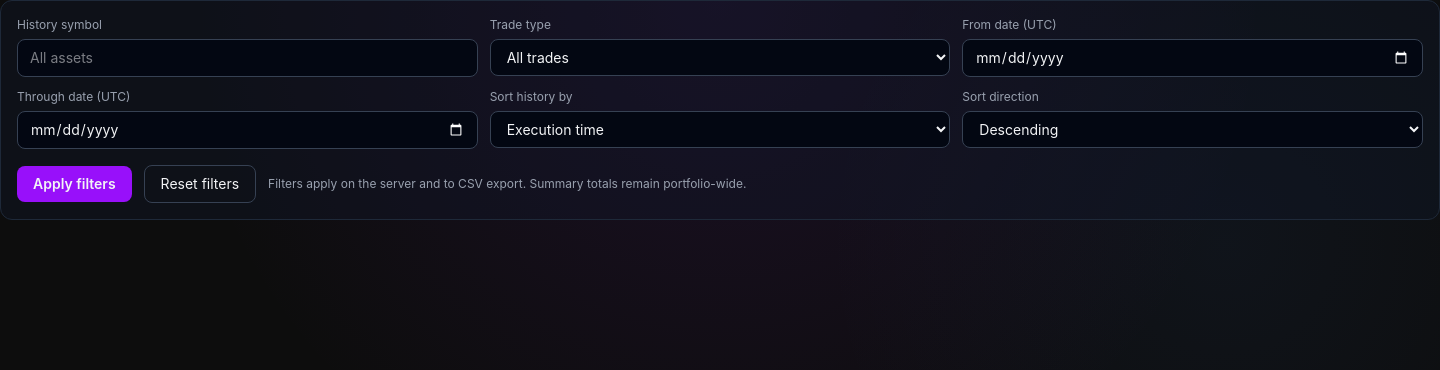
Test case: rejects a reversed date interval without sending a request
Type "2026-02-01" into the date field labelled "From date (UTC)" at (1193, 58), box [962,39,1423,77]
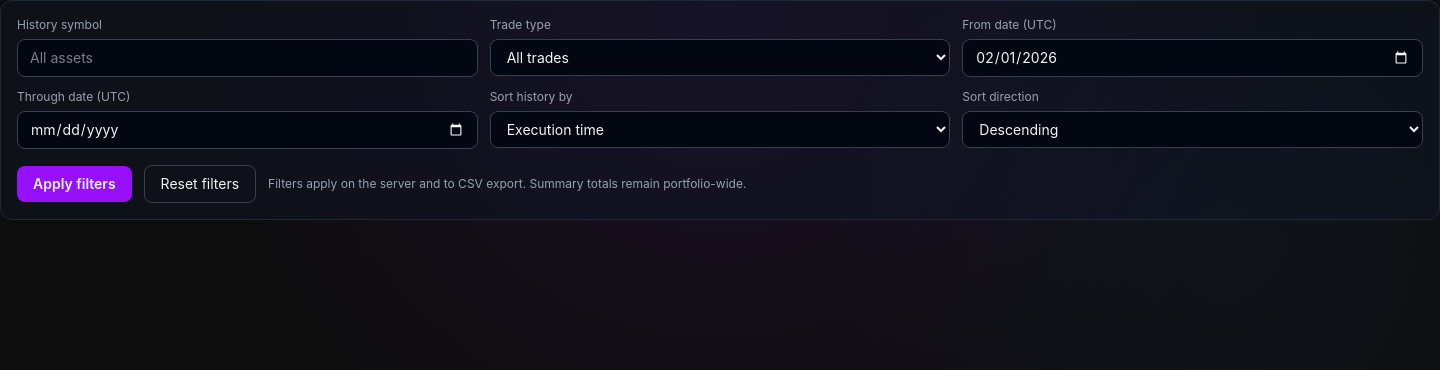
Type "2026-01-01" into the date field labelled "Through date (UTC)" at (247, 130), box [17,111,478,149]
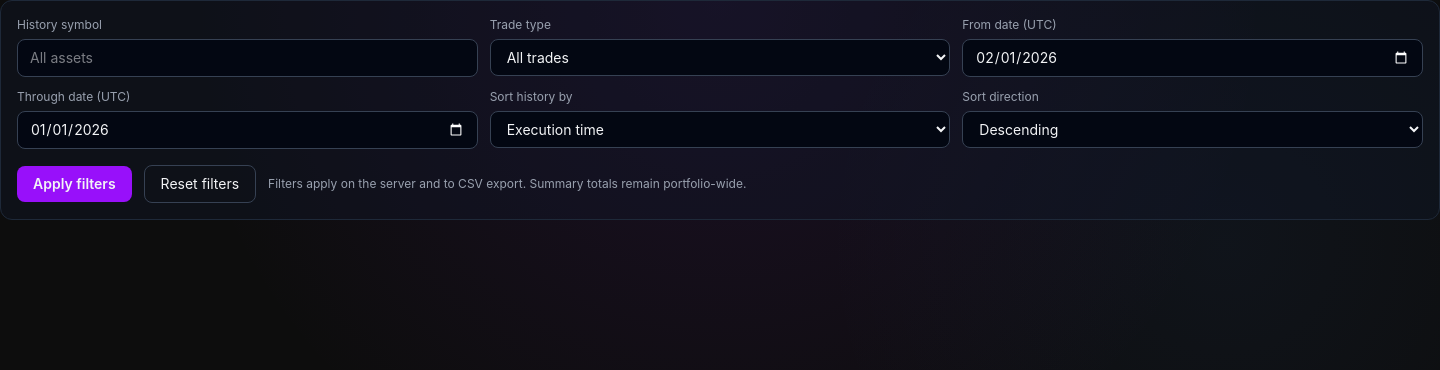
Submit the form, box [0,0,1439,220]
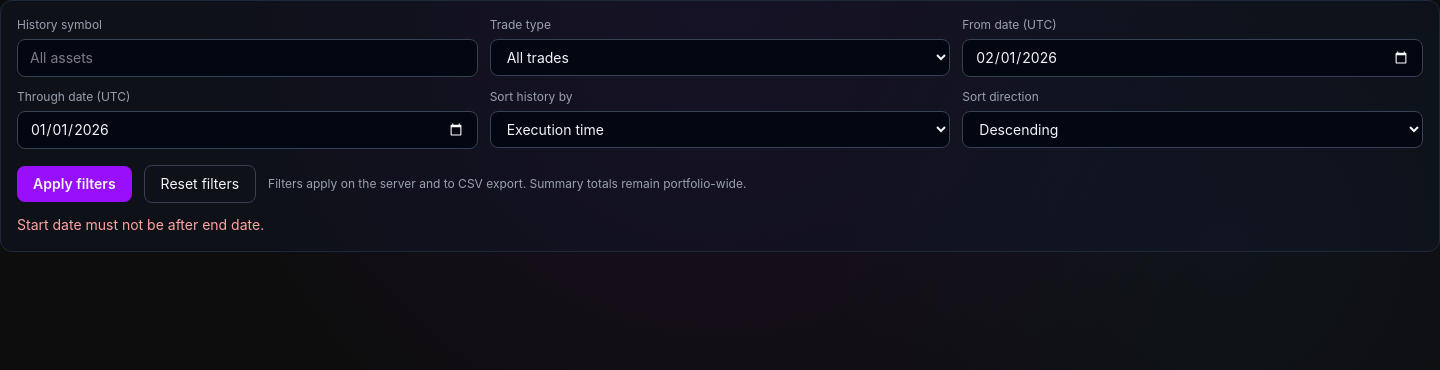
Expected: the message reads "Start date must not be after end date.", [17,216,264,233]
